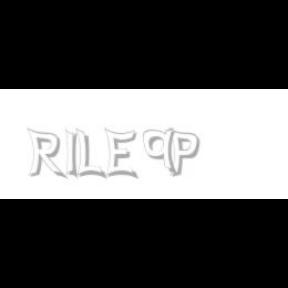E: (104, 128, 138, 180)
I: (66, 128, 78, 180)
L: (76, 128, 104, 180)
P: (168, 128, 200, 178)
R: (26, 128, 64, 180)
q: (143, 128, 179, 176)
